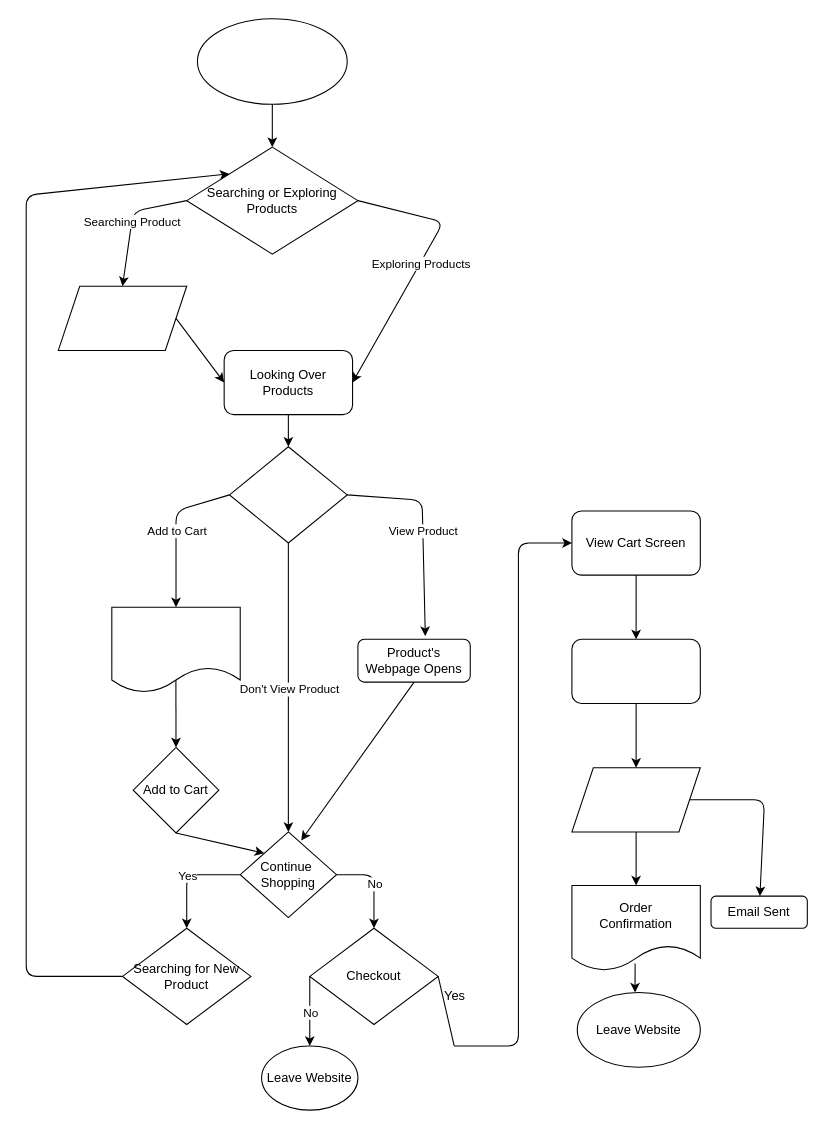
The diagram is 826 pixels wide and 1129 high, and some of its shapes have lost their labels. The shapes that lost their labels are listed below. From the top down, each one's centre as x and y in pixels, then its label:
At (x=271, y=61): "User Enters Website".
At (x=122, y=317): "User Provides Input".
At (x=287, y=494): "Viewing Product".
At (x=175, y=649): "Add to Cart Confirmation".
At (x=635, y=671): "View Payment Screen".
At (x=635, y=799): "Payment Information".
